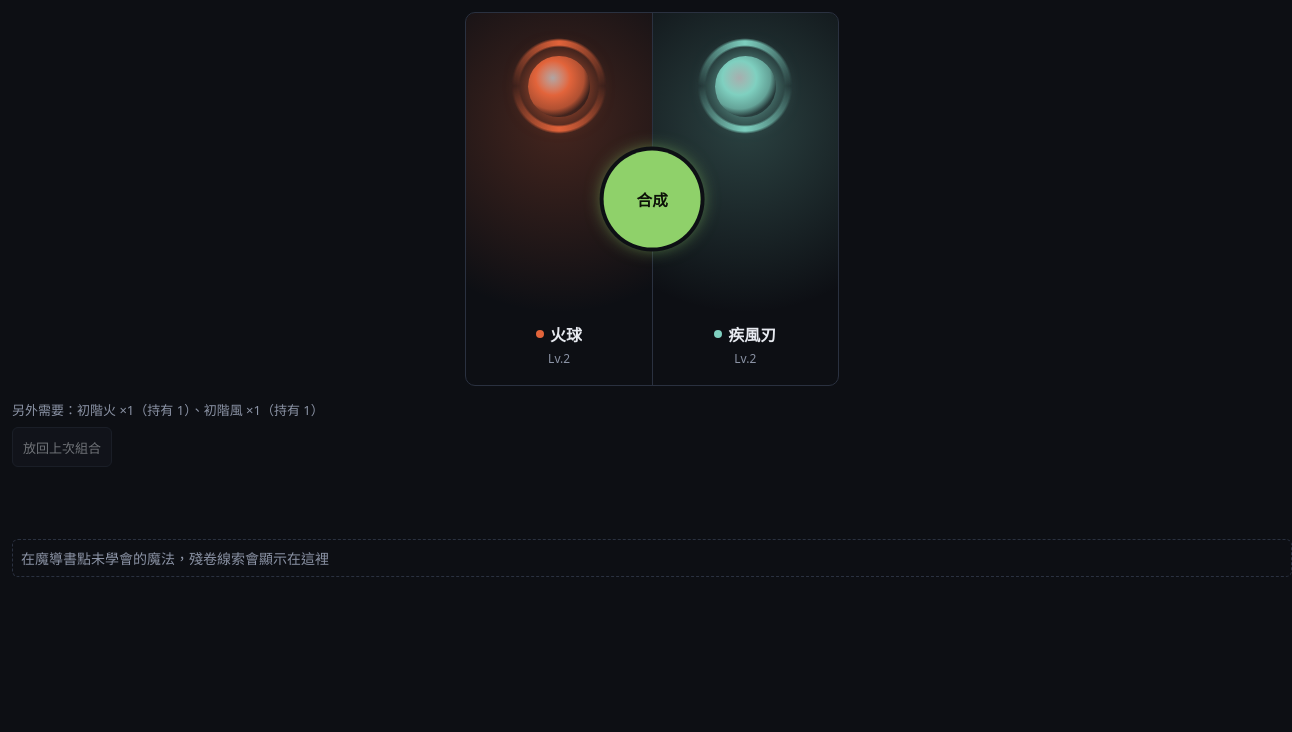
SynthesisAltar › a miss on a random recipe › an overload outside a rare recipe still says 魔力過載
The width and height of the screenshot is (1292, 732).
Click the button "合成". click: coordinates (652, 199)
box: left=604, top=151, right=700, bottom=248
Wait 800 ms
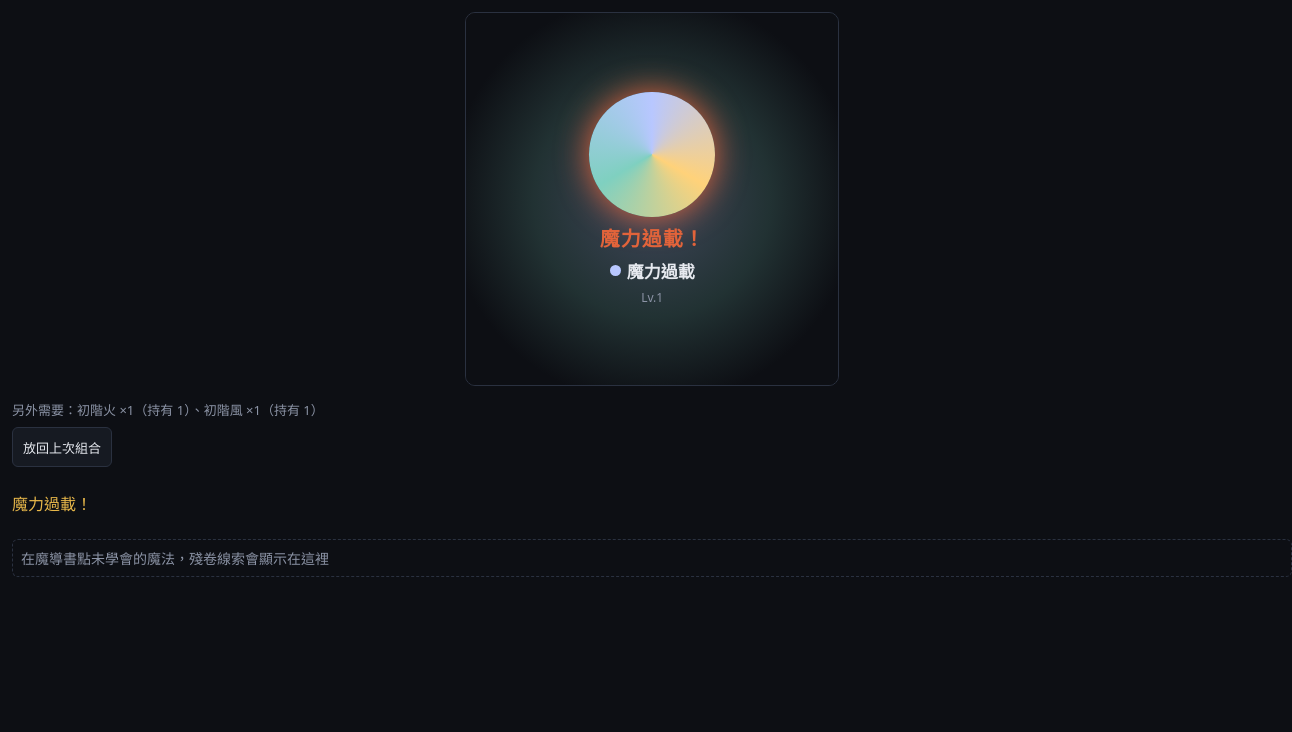
Result: the text "魔力過載！" is shown at left=600, top=223, right=704, bottom=252
